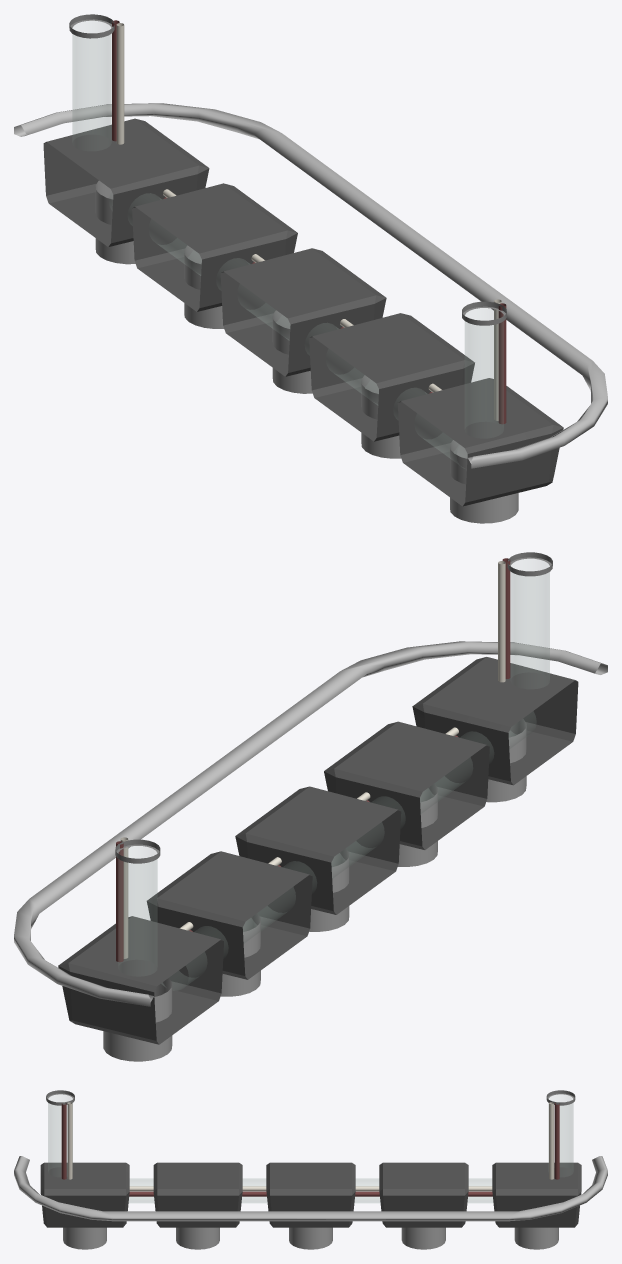
The model's file is CryoUnit.fbx.
3 views of the same model, one above another, from view 1: azimuth 30°, elevation 25°; view 2: azimuth 150°, elevation 25°; view 3: azimuth 270°, elevation 25° (orthographic). The views are drawn at different scales.
Parts seen in each view (by area): view 1: Cryo_unit_top; view 2: Cryo_unit_top; view 3: Cryo_unit_top.
Boxes of the visible parts, x1,y1,x2,y2 form: Cryo_unit_top: [14, 14, 607, 523]; Cryo_unit_top: [14, 552, 607, 1061]; Cryo_unit_top: [14, 1090, 607, 1249].
Size of the model in its own units: 11.43 by 12.14 by 47.33.
